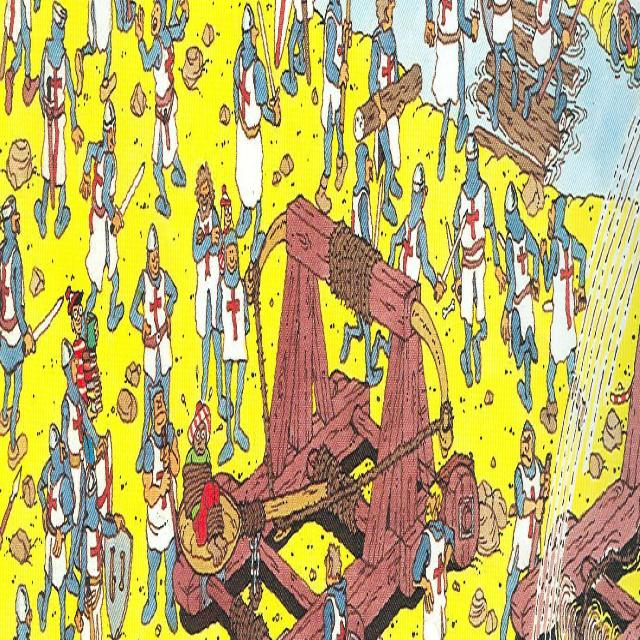waldo: (65, 286, 83, 335)
